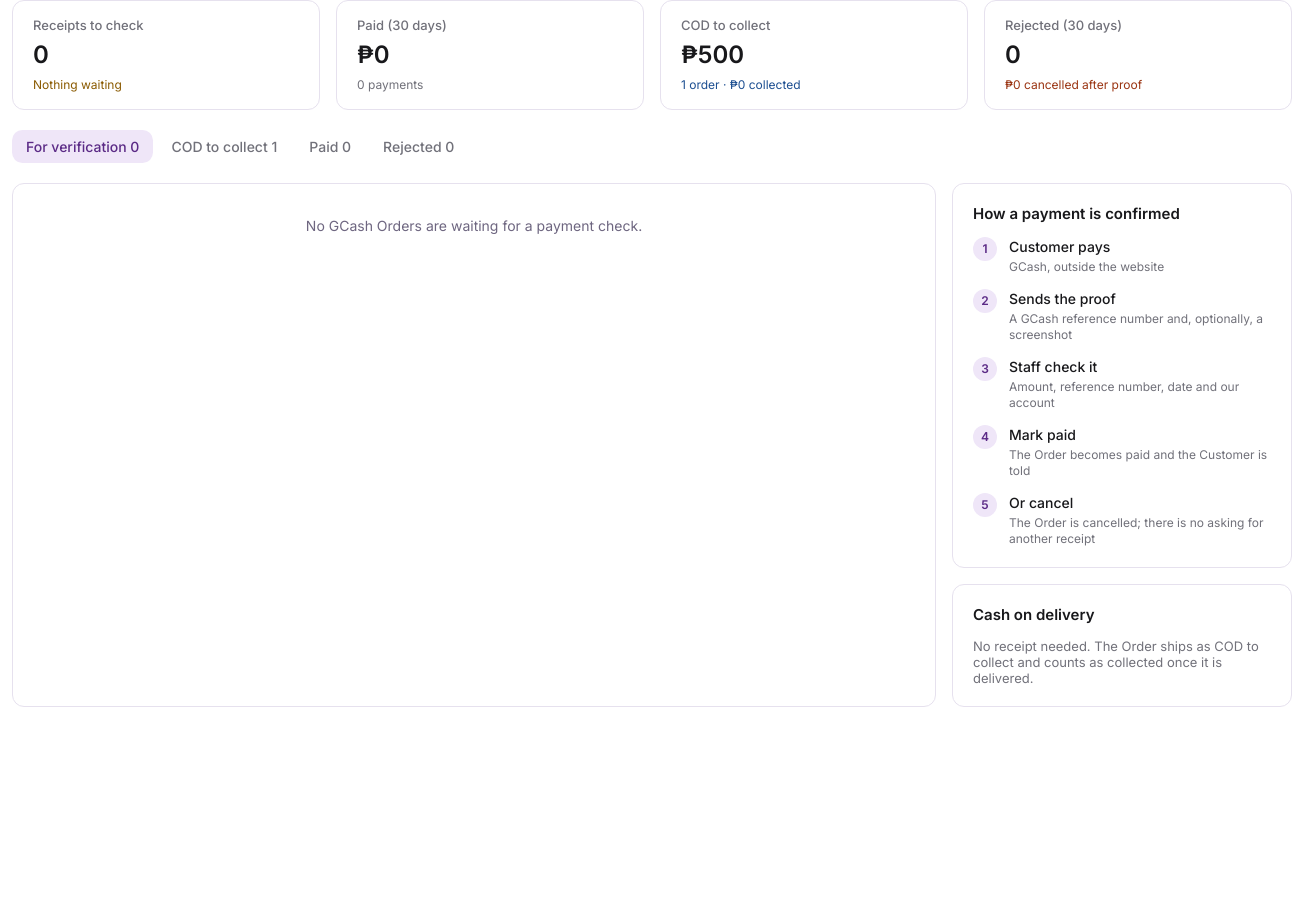
Test: the Payments page › lists Cash on Delivery Orders under their own tab, without a Review button
The width and height of the screenshot is (1292, 900).
Click the tab "COD to collect 1" at (224, 146), box [157,130,291,163]
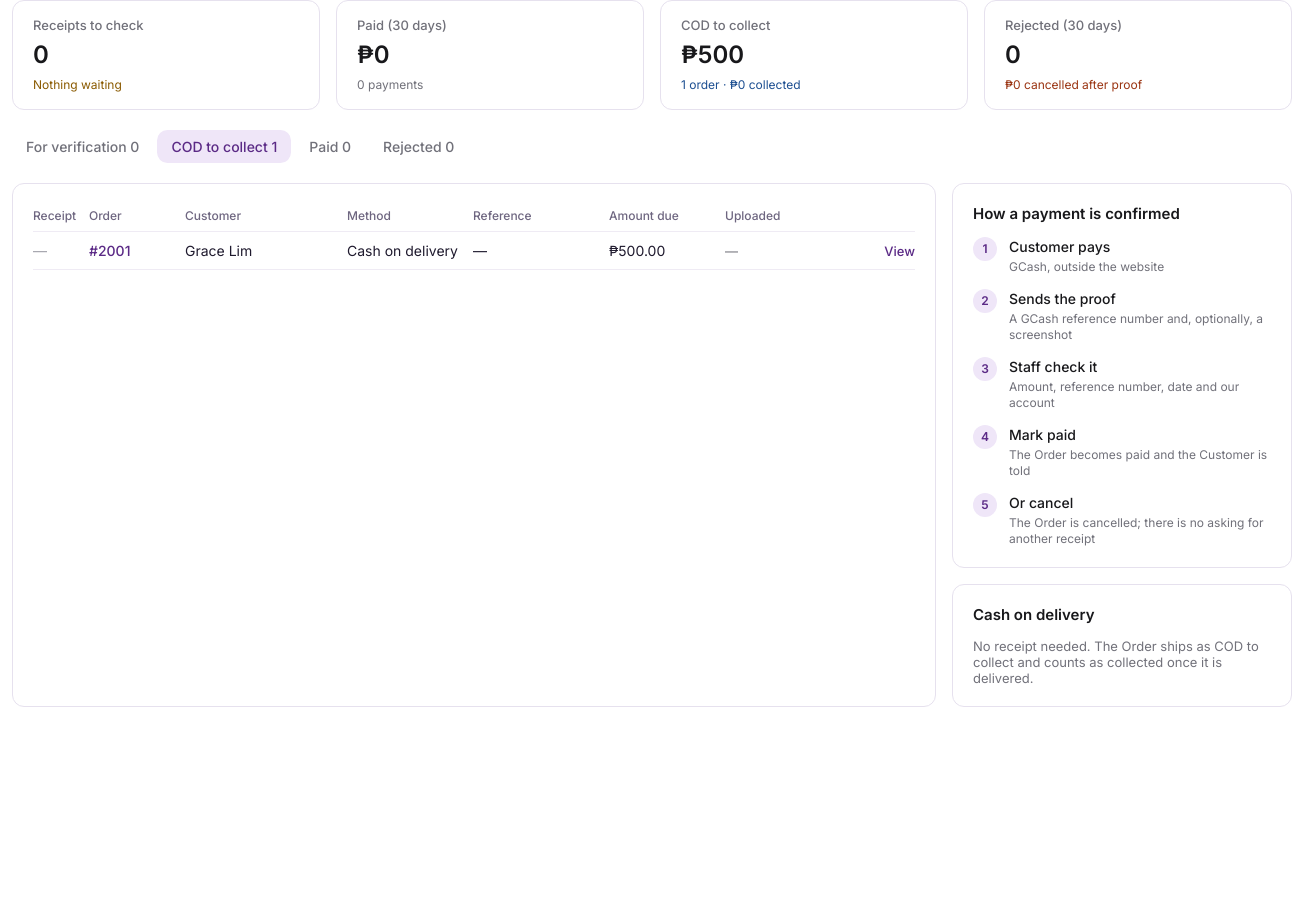
Expected: the link "#2001" is shown, [89,242,130,259]
Expected: the text "Cash on delivery" is shown, [347,242,473,259]
